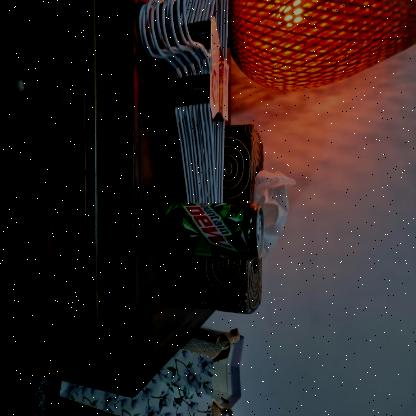Can: (150, 199, 267, 260)
